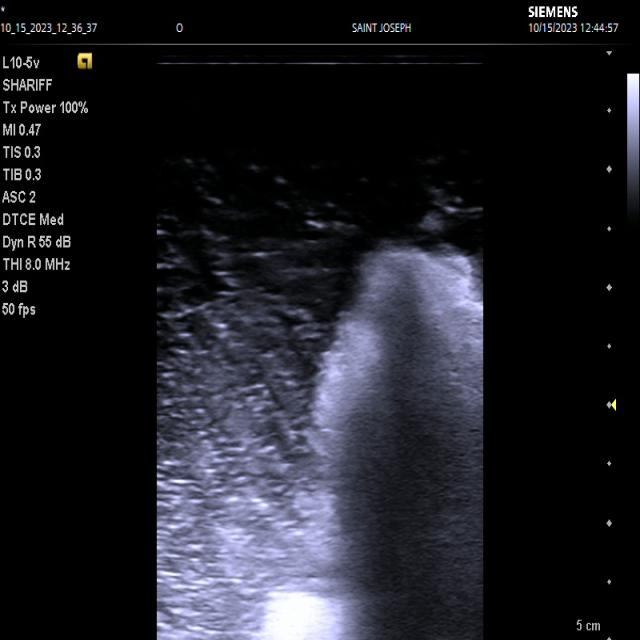tissue: (258, 246, 484, 640)
